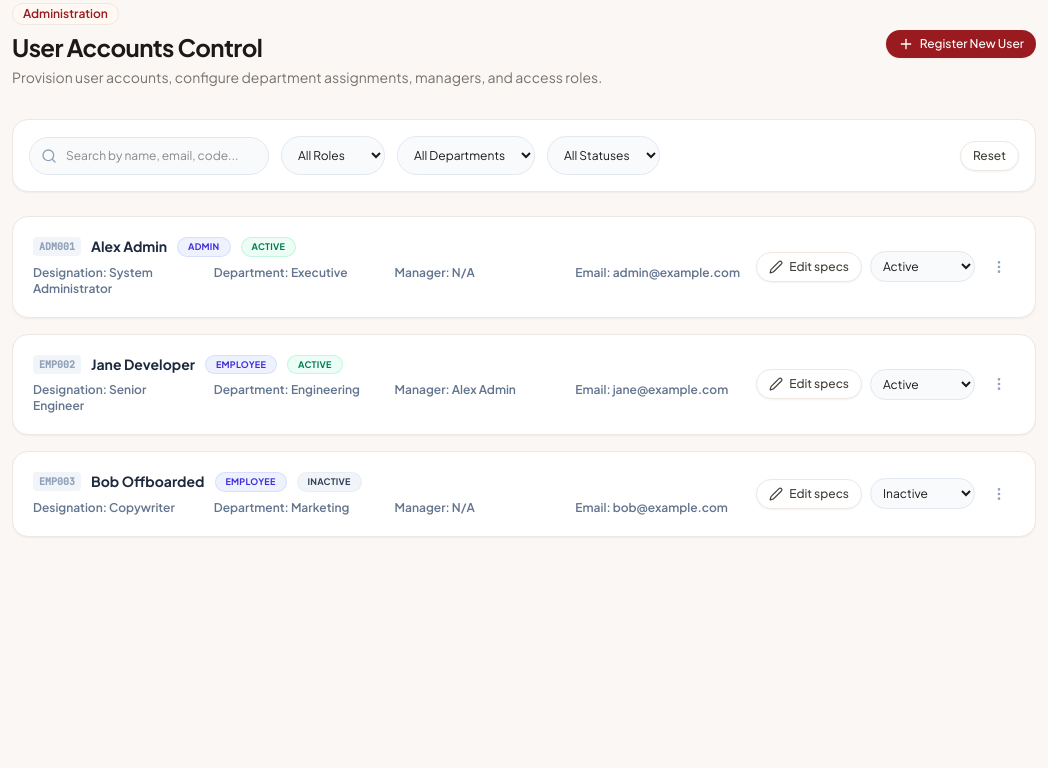
Test: Admin Workspace: Safe User Deletion & Action Menu UX › opens More Actions menu with all expected items and supports Escape to close
expect the heading "Jane Developer" is shown: met, box [91,355,195,374]
Click the button named "more actions for jane developer". click: (999, 384)
box: [983,368,1015,400]
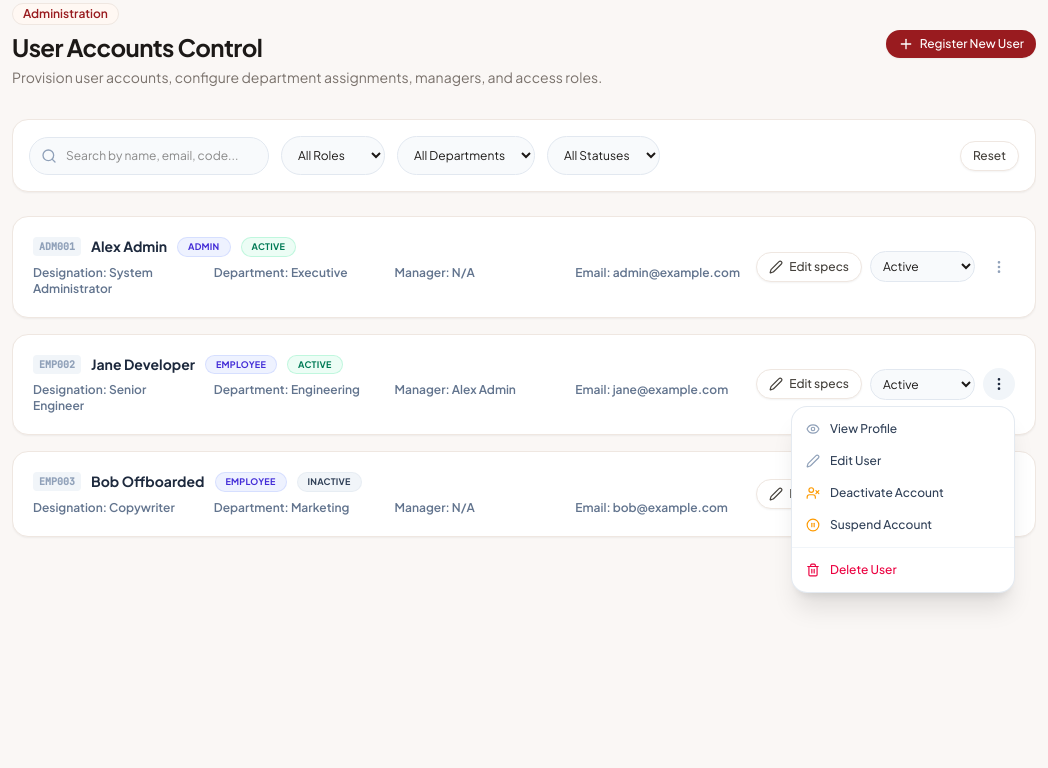
expect the menu item "View Profile" is shown: met, box [792,413,1014,445]
expect the menu item "Edit User" is shown: met, box [792,445,1014,477]
expect the menu item "Deactivate Account" is shown: met, box [792,477,1014,509]
Press Escape to close
Press Escape
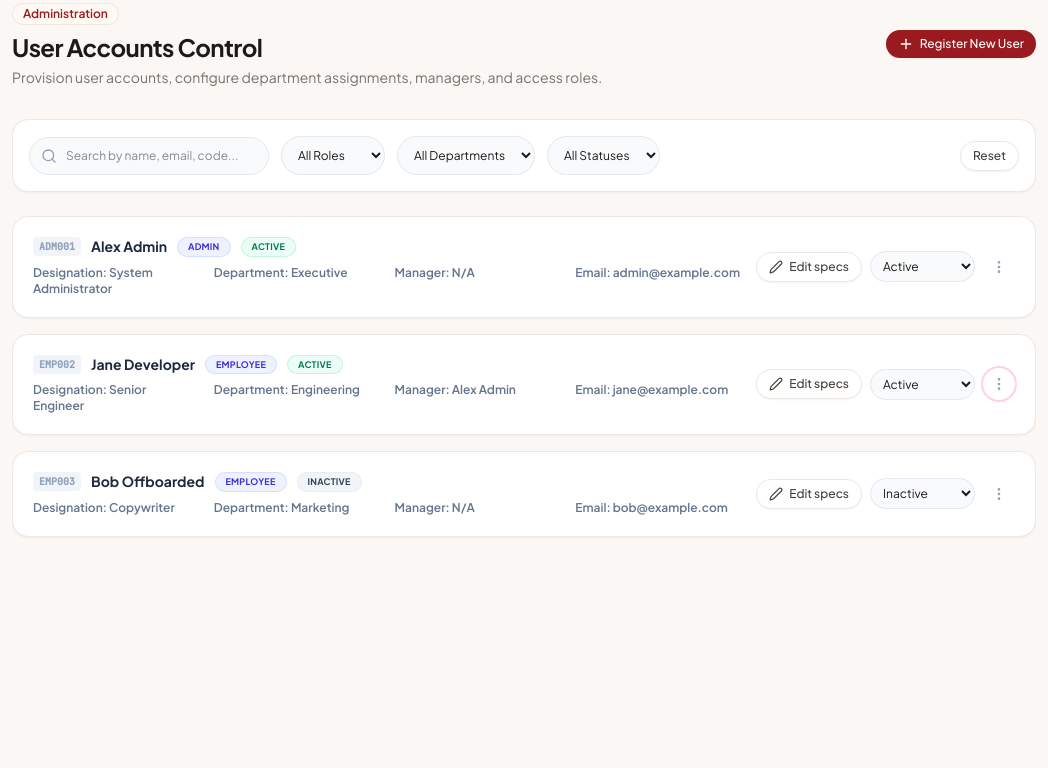
expect the menu item "View Profile" is gone: met
